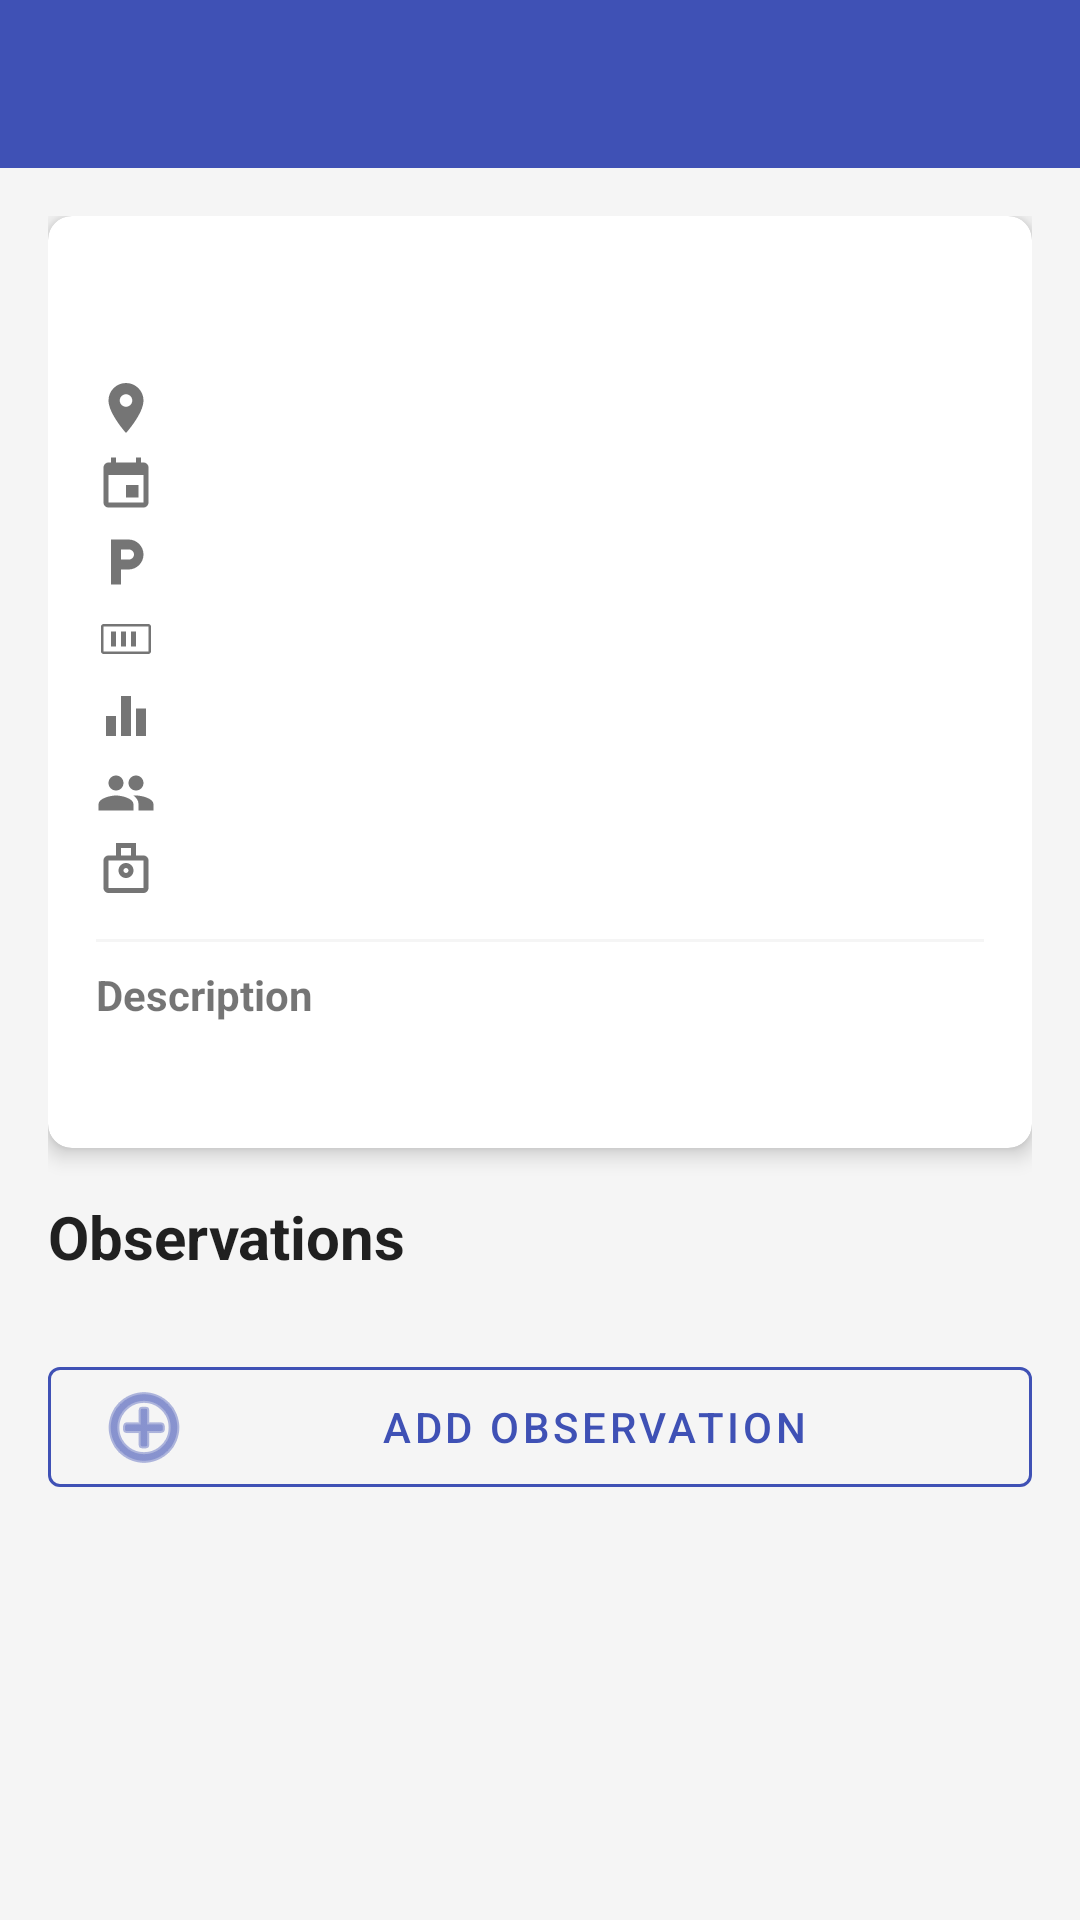

Named icons in this screenshot (1080*1920) and their centers, point (x, y):
date: point (126, 482)
difficulty: point (126, 716)
equipment: point (126, 868)
hiker count: point (126, 793)
length: point (126, 639)
location: point (126, 408)
parking: point (127, 562)
